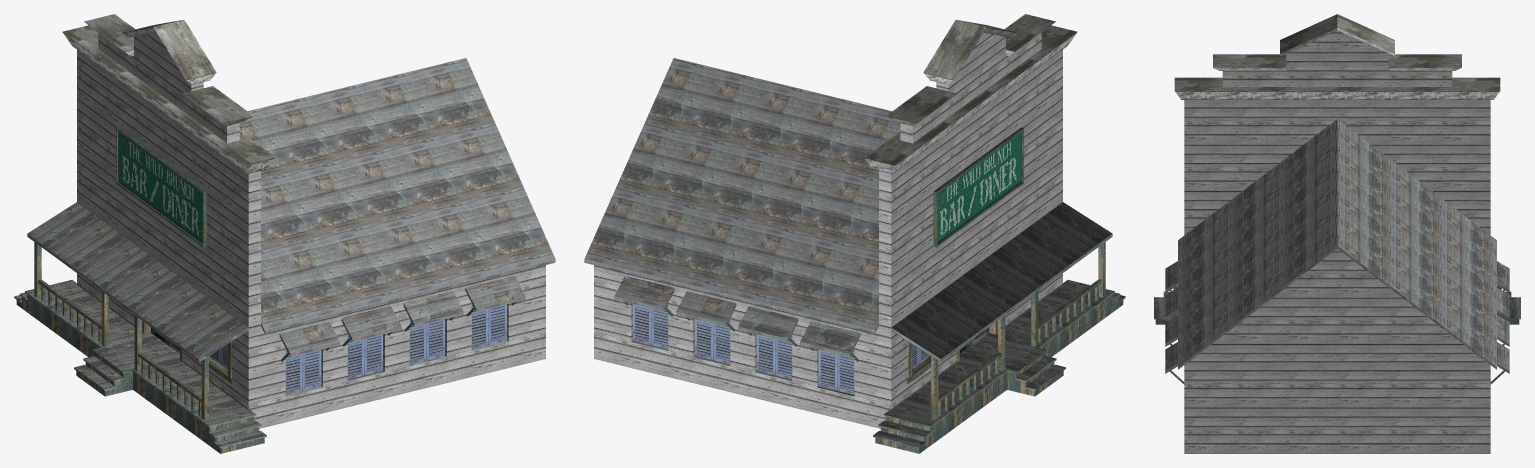
Rendered from westbuild7.fbx.
The picture shows the model from 3 angles, left to right: view 1: azimuth 30°, elevation 25°; view 2: azimuth 150°, elevation 25°; view 3: azimuth 270°, elevation 25°; orthographic projection. The views are drawn at different scales.
Visible parts, largest first — view 1: westbuild7; view 2: westbuild7; view 3: westbuild7.
Part boxes in pixels (box(x1,y1,x2,y2)): westbuild7: box(14, 14, 555, 453); westbuild7: box(584, 14, 1125, 453); westbuild7: box(1154, 14, 1520, 453).
Size of the model in its own units: 97400 by 84800 by 92000.
